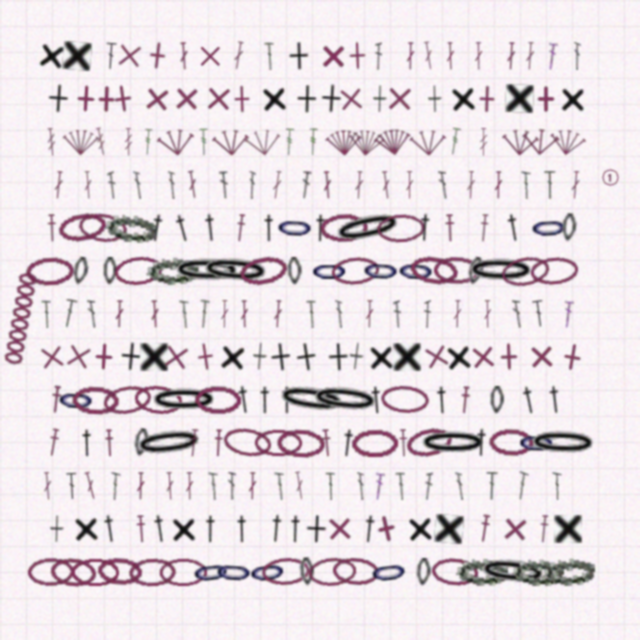chain: (331, 207, 405, 249), (275, 381, 348, 418), (133, 425, 205, 461), (309, 382, 381, 417), (477, 555, 549, 589), (200, 254, 271, 287), (528, 428, 598, 458), (172, 256, 242, 285), (466, 256, 536, 285), (149, 386, 219, 414), (418, 429, 488, 457), (499, 253, 552, 289), (101, 382, 154, 418), (404, 424, 455, 461), (237, 253, 289, 289), (221, 425, 274, 460), (56, 210, 108, 245), (77, 210, 129, 245), (408, 253, 459, 288), (542, 555, 596, 588), (104, 212, 158, 244), (133, 383, 184, 416), (113, 254, 163, 287), (146, 255, 199, 286), (330, 255, 381, 287), (529, 255, 580, 287), (430, 556, 480, 588), (49, 556, 98, 588), (380, 384, 430, 415), (261, 556, 311, 587), (307, 556, 357, 587), (331, 556, 381, 587), (456, 557, 508, 586), (376, 213, 426, 243), (96, 556, 144, 587), (25, 256, 74, 286), (276, 428, 325, 458), (128, 557, 177, 587), (512, 558, 564, 586), (71, 385, 119, 415), (319, 213, 368, 242), (433, 256, 481, 285), (27, 557, 75, 586), (254, 429, 303, 457), (194, 385, 241, 414), (488, 428, 535, 457), (71, 558, 119, 586), (159, 558, 207, 586), (190, 556, 232, 588), (368, 556, 410, 588), (351, 429, 398, 457), (247, 556, 288, 588), (396, 256, 436, 286), (56, 385, 96, 415), (214, 557, 254, 587), (275, 213, 315, 242), (529, 213, 569, 242), (361, 256, 401, 285), (517, 428, 556, 457), (310, 257, 349, 285), (71, 256, 90, 286), (466, 256, 485, 286), (133, 428, 150, 457), (561, 213, 577, 242), (299, 557, 315, 586), (287, 257, 302, 285), (416, 558, 431, 586), (103, 257, 117, 285), (490, 386, 504, 414)
double: (61, 299, 78, 328), (83, 471, 98, 500), (532, 299, 546, 328), (515, 471, 529, 500), (232, 41, 245, 70), (422, 41, 435, 70), (186, 170, 199, 199), (197, 299, 210, 328), (293, 471, 306, 500), (105, 42, 117, 70), (546, 42, 558, 70), (271, 171, 283, 199), (300, 171, 312, 199), (380, 171, 392, 199), (544, 171, 556, 199), (562, 300, 574, 328), (66, 472, 78, 500), (109, 472, 121, 500), (274, 472, 286, 500), (373, 472, 385, 500), (486, 472, 498, 500), (53, 171, 64, 199), (219, 171, 230, 199), (322, 171, 333, 199), (570, 171, 581, 199), (179, 300, 190, 328), (42, 472, 53, 500), (208, 472, 219, 500), (395, 472, 406, 500), (179, 42, 189, 70), (264, 42, 274, 70), (506, 42, 516, 70), (525, 42, 535, 70), (83, 171, 93, 199), (107, 171, 117, 199), (133, 171, 143, 199), (354, 171, 364, 199), (438, 171, 448, 199), (466, 171, 476, 199), (521, 171, 531, 199), (41, 300, 51, 328), (87, 300, 97, 328), (150, 300, 160, 328), (273, 300, 283, 328), (306, 300, 316, 328), (512, 300, 522, 328), (165, 472, 175, 500), (325, 472, 335, 500), (455, 472, 465, 500), (552, 472, 562, 500), (406, 42, 415, 70), (446, 42, 455, 70), (474, 42, 483, 70), (405, 171, 414, 199), (494, 171, 503, 199), (115, 300, 124, 328), (220, 300, 229, 328), (240, 300, 249, 328), (335, 300, 344, 328), (365, 300, 374, 328), (393, 300, 402, 328), (453, 300, 462, 328), (483, 300, 492, 328), (136, 472, 145, 500), (185, 472, 194, 500), (227, 472, 236, 500), (248, 472, 257, 500), (424, 472, 433, 500), (573, 42, 581, 70), (168, 171, 176, 199), (248, 171, 256, 199), (357, 472, 365, 500), (375, 42, 382, 70), (424, 300, 431, 328)
enseble_chain: (1, 271, 40, 368)
fan: (547, 125, 588, 158), (243, 125, 283, 158), (373, 125, 413, 158), (156, 126, 196, 158), (347, 126, 386, 158), (521, 126, 560, 157), (501, 127, 540, 157), (212, 127, 250, 157), (325, 127, 363, 157), (409, 127, 447, 157), (62, 127, 100, 156)
half_double: (172, 213, 193, 243), (147, 213, 167, 243), (519, 385, 539, 415), (338, 428, 358, 458), (360, 514, 379, 544), (504, 213, 523, 242), (267, 514, 286, 543), (416, 213, 434, 242), (235, 385, 253, 414), (546, 385, 564, 414), (101, 514, 119, 543), (151, 514, 169, 543), (202, 213, 219, 242), (473, 428, 490, 457), (312, 214, 329, 242), (368, 386, 385, 414), (202, 515, 219, 543), (287, 515, 304, 543), (261, 214, 277, 242), (257, 386, 273, 414), (279, 386, 295, 414), (434, 386, 450, 414), (79, 429, 95, 457), (234, 515, 250, 543), (46, 428, 61, 457), (477, 514, 492, 543), (49, 385, 63, 414), (234, 214, 247, 242), (187, 429, 200, 457), (320, 429, 333, 457), (46, 214, 58, 242), (444, 214, 456, 242), (478, 214, 490, 242), (459, 386, 471, 414), (135, 515, 147, 543), (538, 515, 550, 543), (104, 429, 115, 457), (213, 429, 224, 457), (398, 429, 409, 457)
noise: (600, 167, 620, 187)
single: (62, 340, 95, 373), (420, 340, 453, 373), (370, 512, 403, 545), (36, 341, 68, 373), (160, 341, 192, 373), (556, 341, 588, 373), (114, 40, 145, 71), (142, 40, 173, 71), (107, 83, 138, 114), (190, 341, 221, 372), (37, 40, 67, 71), (62, 41, 92, 71), (142, 84, 172, 114), (336, 84, 366, 114), (468, 342, 498, 372), (434, 514, 464, 544), (500, 514, 530, 544), (343, 41, 372, 70), (71, 84, 100, 113), (172, 84, 201, 113), (204, 84, 233, 113), (385, 84, 414, 113), (505, 84, 534, 113), (89, 342, 118, 371), (494, 342, 523, 371), (527, 342, 556, 371), (325, 514, 354, 543), (219, 342, 247, 372), (445, 342, 473, 372), (196, 42, 224, 70), (319, 42, 347, 70), (92, 85, 120, 113), (228, 85, 256, 113), (473, 85, 501, 113), (532, 85, 560, 113), (140, 343, 168, 371), (393, 343, 421, 371), (554, 515, 582, 543), (261, 84, 288, 113), (450, 84, 477, 113), (73, 514, 100, 543), (407, 514, 434, 543), (368, 343, 395, 371), (560, 85, 586, 113), (171, 515, 197, 543), (294, 342, 318, 372), (269, 342, 292, 372), (119, 342, 142, 371), (47, 84, 69, 113), (320, 84, 342, 113), (327, 343, 349, 371), (305, 515, 327, 543), (288, 42, 309, 70), (296, 85, 317, 113), (348, 342, 365, 371), (252, 342, 268, 371), (373, 85, 387, 113), (428, 85, 442, 113), (50, 515, 64, 543)
treble: (94, 127, 108, 156), (448, 127, 462, 156), (46, 128, 57, 156), (284, 128, 295, 156), (143, 128, 153, 156), (199, 128, 209, 156), (308, 128, 318, 156), (124, 128, 133, 156), (479, 128, 488, 156)
